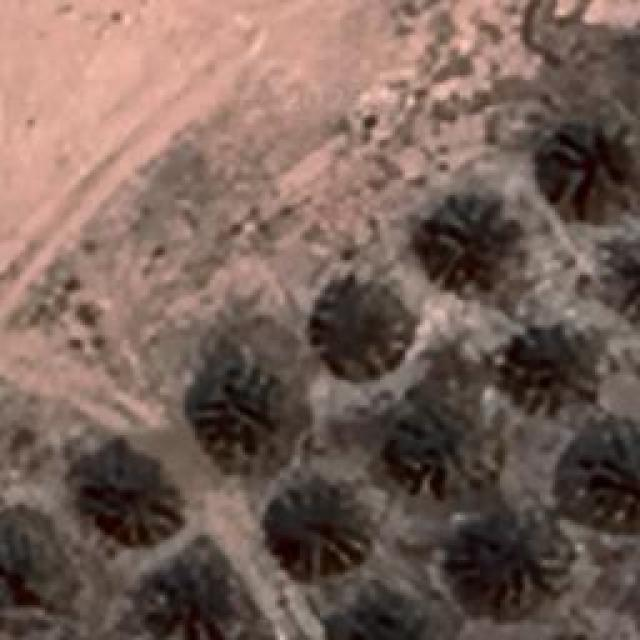PalmTree: (187, 360, 295, 465), (260, 472, 370, 572), (468, 511, 570, 614), (415, 192, 520, 292), (79, 438, 182, 538), (502, 327, 600, 415), (316, 282, 404, 378), (140, 562, 248, 640), (547, 120, 635, 215), (391, 402, 484, 486), (573, 425, 638, 525), (318, 593, 450, 640), (0, 504, 59, 606), (609, 230, 640, 326)
